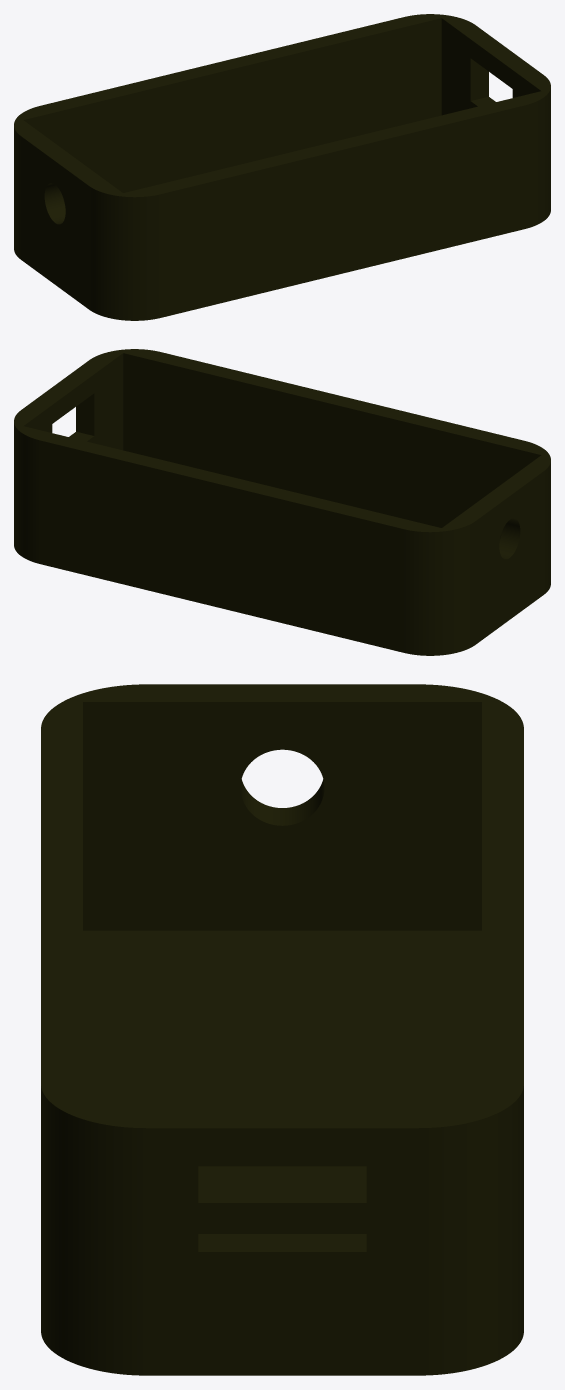
The model's file is CaseArduino.obj.
The picture shows the model from 3 angles, top to bottom: view 1: azimuth 30°, elevation 25°; view 2: azimuth 150°, elevation 25°; view 3: azimuth 270°, elevation 25°; orthographic projection. The views are drawn at different scales.
Parts seen in each view (by area): view 1: Case; view 2: Case; view 3: Case.
Boxes of the visible parts, x1,y1,x2,y2 form: Case: (14,14,550,320); Case: (14,349,550,655); Case: (41,684,523,1375).
Bounding box in the file's own units: 50 × 13 × 23.
